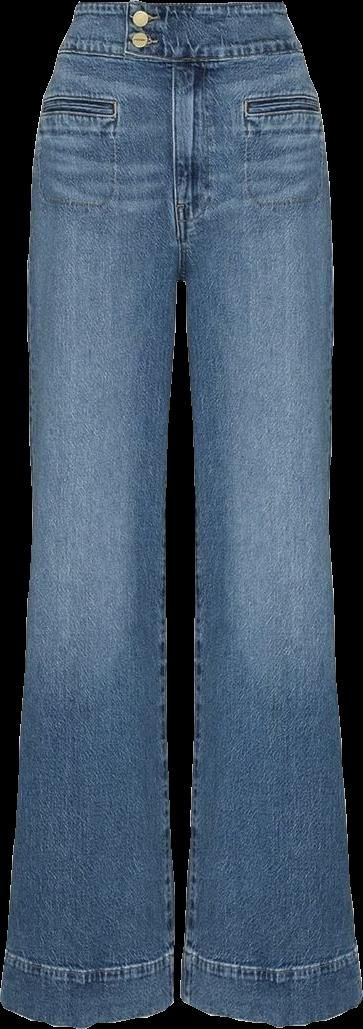Hemline: (177, 986, 362, 1027), (0, 991, 178, 1028)
Pantleg: (171, 0, 361, 1026), (0, 0, 178, 1027)
Waistline: (59, 43, 303, 66), (71, 0, 286, 15)
